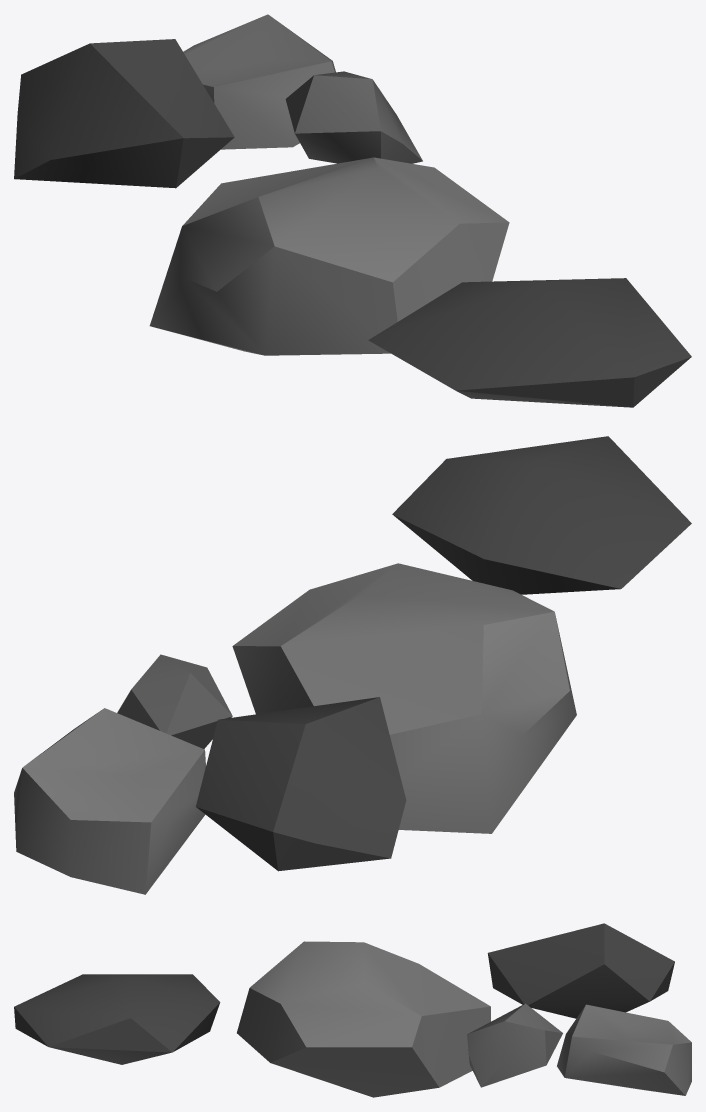
The model's file is stones.glb.
The picture shows the model from 3 angles, top to bottom: view 1: azimuth 30°, elevation 25°; view 2: azimuth 150°, elevation 25°; view 3: azimuth 270°, elevation 25°; orthographic projection. The views are drawn at different scales.
Parts seen in each view (by area): view 1: stone_1, stone_4, stone_3, stone, stone_2; view 2: stone_1, stone_4, stone_3, stone, stone_2; view 3: stone_1, stone_4, stone_3, stone, stone_2.
Part boxes in pixels (left/top/right/bottom): stone_1: left=149, top=157, right=509, bottom=355; stone_4: left=368, top=278, right=691, bottom=407; stone_3: left=14, top=39, right=234, bottom=188; stone: left=183, top=14, right=335, bottom=149; stone_2: left=285, top=71, right=422, bottom=163; stone_1: left=232, top=563, right=576, bottom=833; stone_4: left=392, top=436, right=691, bottom=594; stone_3: left=195, top=697, right=406, bottom=871; stone: left=14, top=708, right=205, bottom=894; stone_2: left=117, top=654, right=232, bottom=748; stone_1: left=237, top=941, right=490, bottom=1097; stone_4: left=14, top=974, right=220, bottom=1064; stone_3: left=487, top=923, right=674, bottom=1018; stone: left=557, top=1004, right=691, bottom=1095; stone_2: left=467, top=1003, right=562, bottom=1087.
Size of what is drawn, in the model's own units: 9.62 by 5.47 by 24.68.
Materials: 1 (1 with a texture image).
